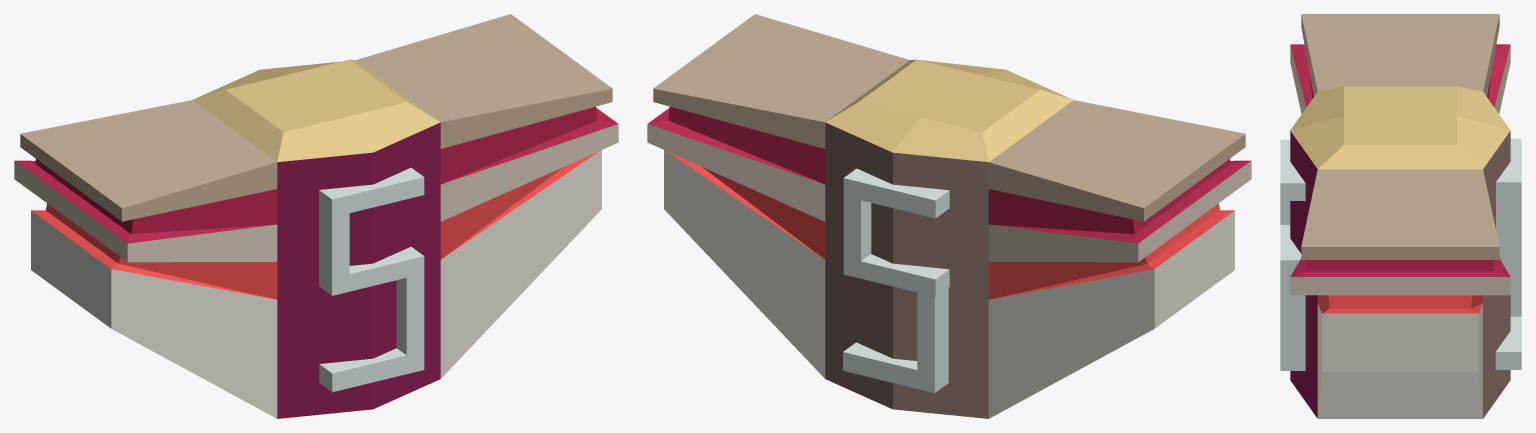
File: PowerUpContentS.fbx
3 views of the same model, side by side, from view 1: azimuth 30°, elevation 25°; view 2: azimuth 150°, elevation 25°; view 3: azimuth 270°, elevation 25° (orthographic). The views are drawn at different scales.
Visible parts, largest first — view 1: PowerUpContentS; view 2: PowerUpContentS; view 3: PowerUpContentS.
Boxes of the visible parts, <box> form: PowerUpContentS: <box>14,14,618,418</box>; PowerUpContentS: <box>647,14,1251,418</box>; PowerUpContentS: <box>1280,14,1521,418</box>.
Size of the model in its own units: 100 by 52.96 by 43.78.
